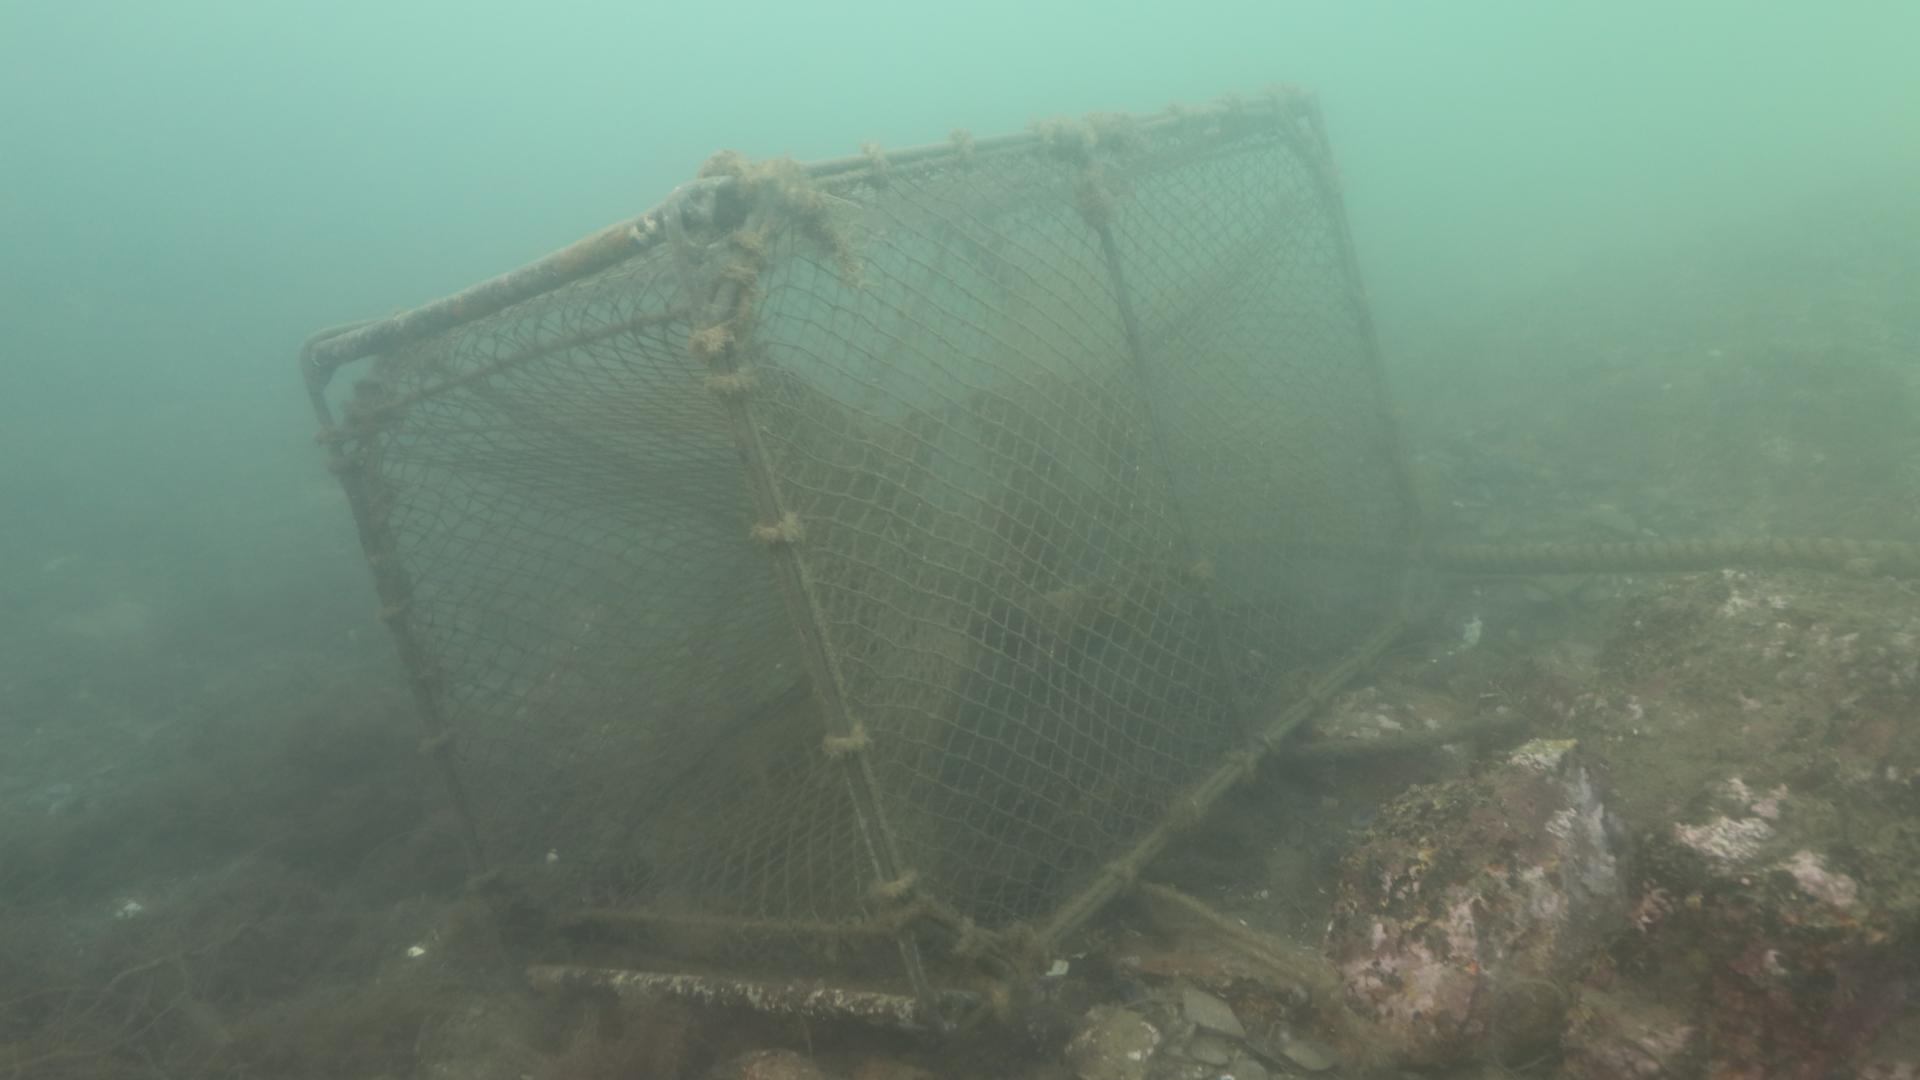bundle of ropes: (1113, 857, 1323, 978)
rectangular fish trap: (297, 84, 1443, 1033)
rope: (1455, 517, 1917, 584)
